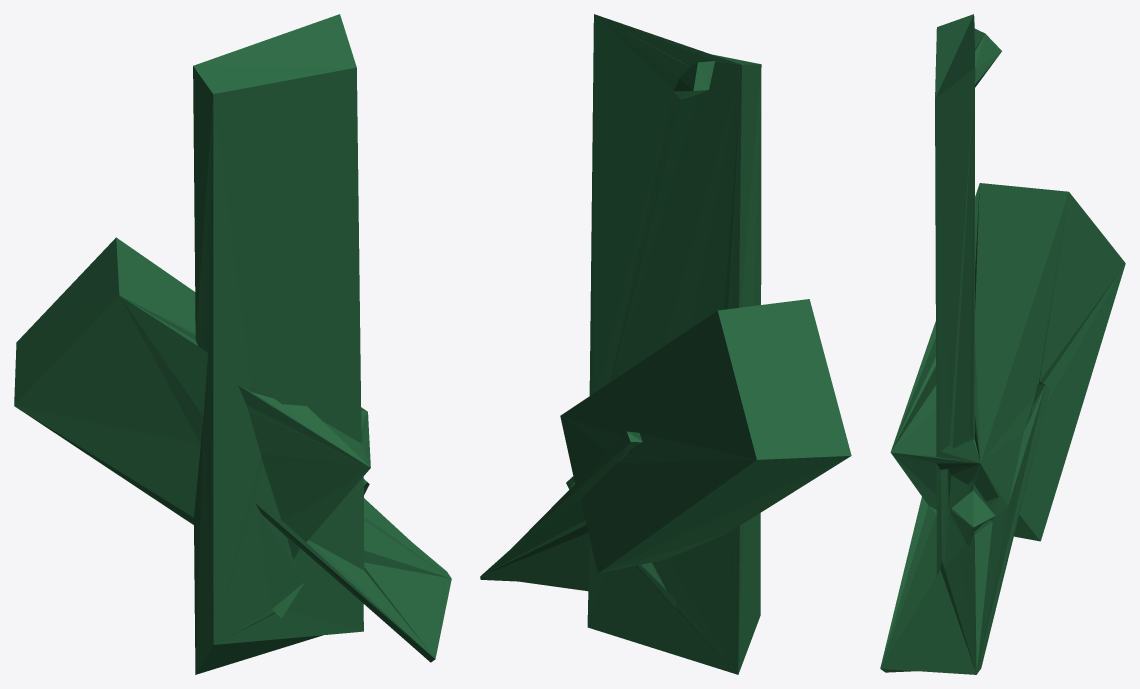
3 views of the same model, side by side, from view 1: azimuth 30°, elevation 25°; view 2: azimuth 150°, elevation 25°; view 3: azimuth 270°, elevation 25° (orthographic). The views are drawn at different scales.
Visible parts, largest first — view 1: 348_Cube.1421; view 2: 348_Cube.1421; view 3: 348_Cube.1421.
Boxes of the visible parts, bbox=[...] form: 348_Cube.1421: bbox=[14, 14, 451, 674]; 348_Cube.1421: bbox=[480, 14, 851, 674]; 348_Cube.1421: bbox=[880, 14, 1125, 674].
Size of the model in its own units: 8.55 by 12.64 by 4.79.
